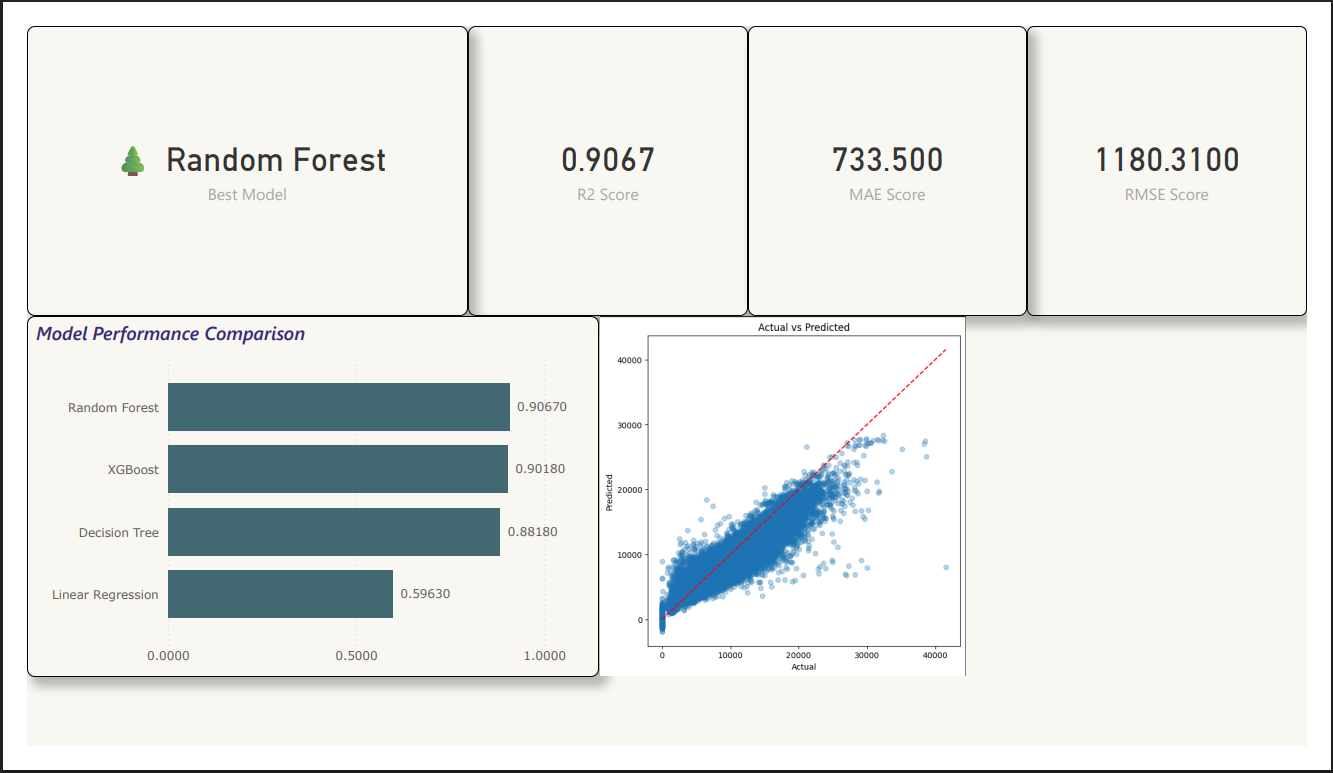

The page's visual inventory and layout, read from the dashboard file:
{"tool":"powerbi","page":{"name":"Sales Forecasting & Machine Learning","canvas":[1280,720],"ordinal":3},"visuals":[{"type":"advanceCardE03760C5AB684758B56AA29F9E6C257B","fields":{"mainMeasure":["rossmann_powerbi.R2 Score"]},"box":[441.2,0,279.6,289.7],"z":0},{"type":"advanceCardE03760C5AB684758B56AA29F9E6C257B","fields":{"mainMeasure":["rossmann_powerbi.RMSE Score"]},"box":[1000.5,0,279.6,289.7],"z":1000},{"type":"advanceCardE03760C5AB684758B56AA29F9E6C257B","fields":{"mainMeasure":["rossmann_powerbi.MAE Score"]},"box":[720.8,0,279.6,289.7],"z":2000},{"type":"advanceCardE03760C5AB684758B56AA29F9E6C257B","fields":{"mainMeasure":["rossmann_powerbi.Best Model"]},"box":[0,0,441.2,289.7],"z":3000},{"type":"barChart","title":"Model Performance Comparison","fields":{"Category":["Model Performance.Model"],"Y":["Model Performance.R2 Measure"]},"box":[0,289.7,571.8,360.8],"z":4000},{"type":"image","box":[512.4,289.7,488.1,360],"z":4001}]}

Visuals, with their boxes in screenshot pixels (x1, y1, x2, y2), scaled from the page's 1280x720 canvas onto the 1333x773 screenshot:
advanceCardE03760C5AB684758B56AA29F9E6C257B - rossmann_powerbi.R2 Score: pyautogui.locateOnScreen(459, 0, 751, 311)
advanceCardE03760C5AB684758B56AA29F9E6C257B - rossmann_powerbi.RMSE Score: pyautogui.locateOnScreen(1042, 0, 1332, 311)
advanceCardE03760C5AB684758B56AA29F9E6C257B - rossmann_powerbi.MAE Score: pyautogui.locateOnScreen(751, 0, 1042, 311)
advanceCardE03760C5AB684758B56AA29F9E6C257B - rossmann_powerbi.Best Model: pyautogui.locateOnScreen(0, 0, 459, 311)
"Model Performance Comparison" barChart: pyautogui.locateOnScreen(0, 311, 595, 698)
image: pyautogui.locateOnScreen(534, 311, 1042, 698)
